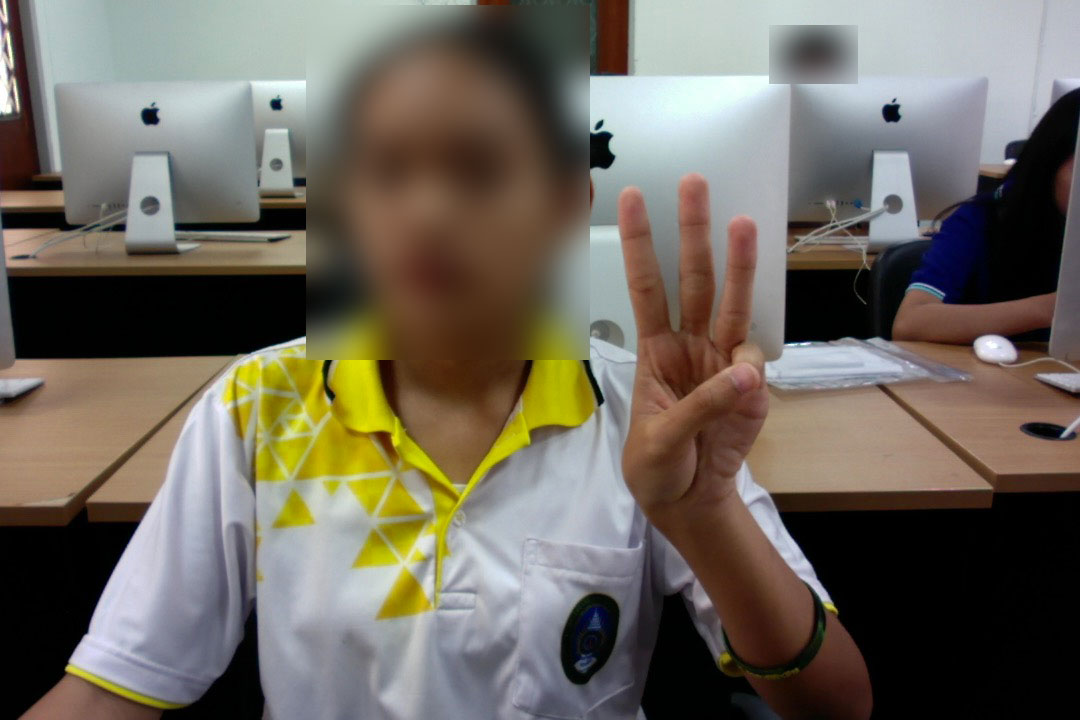wor: (589, 168, 793, 527)
